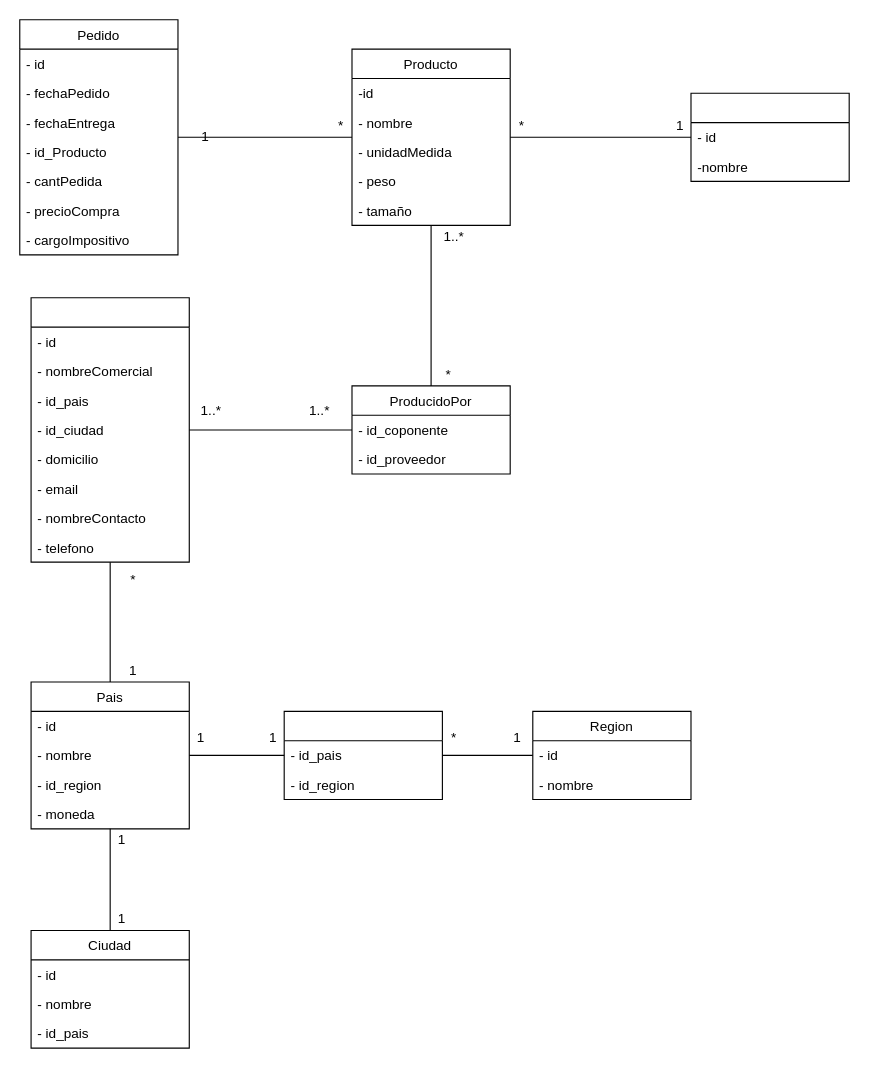
Image size: 869x1071. Some labels were removed from this diagram. The shapes that lost their labels are listed below. From the top down, each one's box as (x1, y1, x2, y2) in pixels, then its label:
(690, 92, 849, 181): TipoProducto
(30, 297, 189, 562): Proveedor
(283, 710, 442, 799): AsignarRegion
